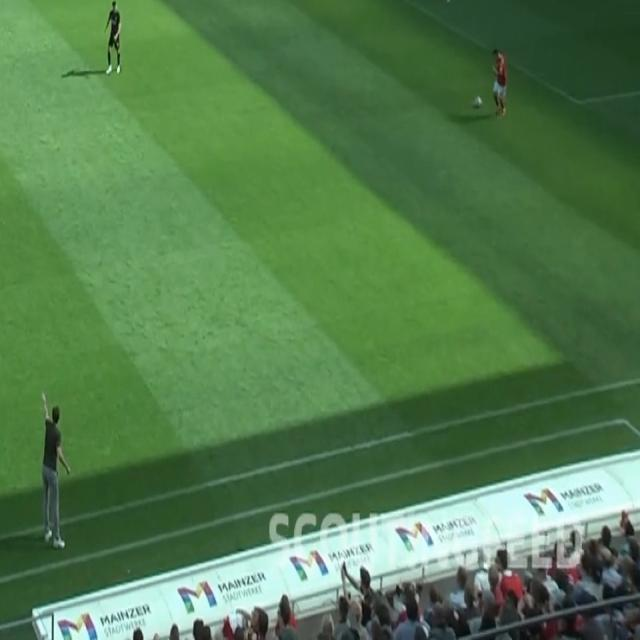ball: (474, 96, 482, 110)
